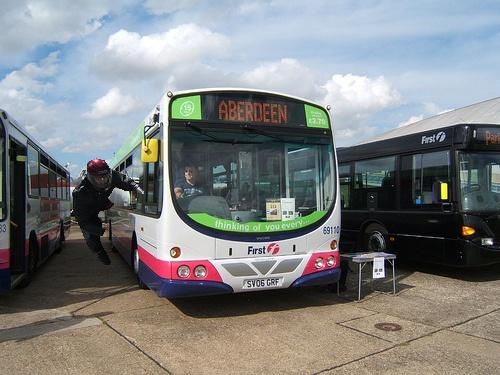tampered: (73, 159, 144, 265)
